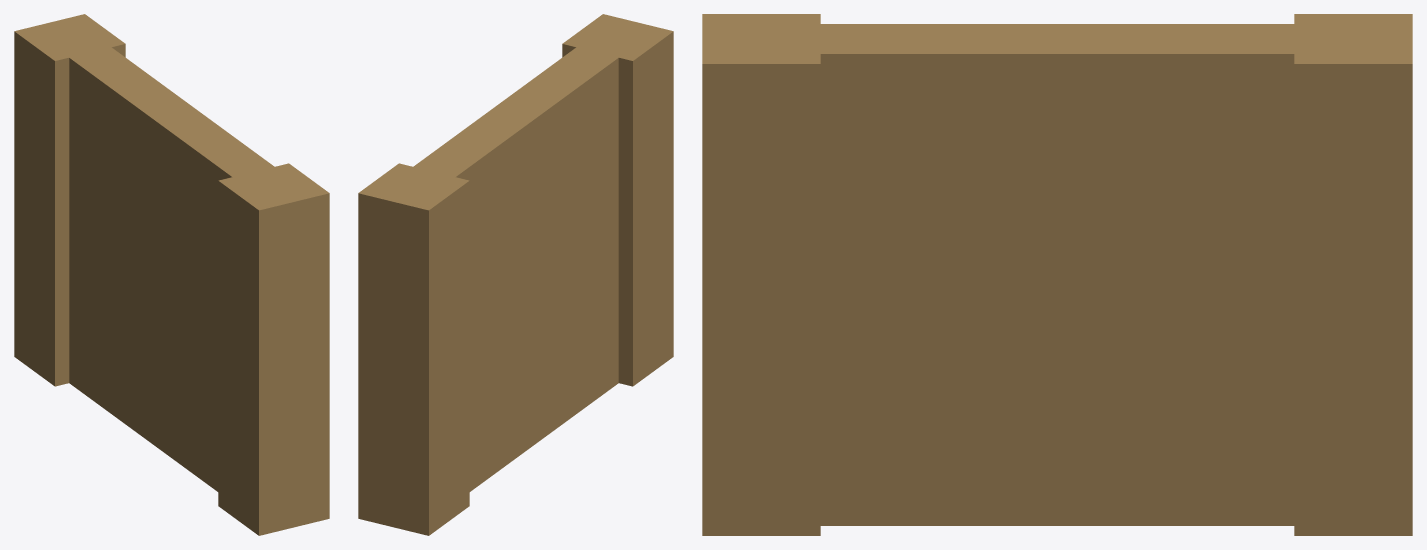
File: wood_door_round_01.glb
The picture shows the model from 3 angles, left to right: view 1: azimuth 30°, elevation 25°; view 2: azimuth 150°, elevation 25°; view 3: azimuth 270°, elevation 25°; orthographic projection. The views are drawn at different scales.
Visible parts, largest first — view 1: Mesh1 Wood_Door_Round Model; view 2: Mesh1 Wood_Door_Round Model; view 3: Mesh1 Wood_Door_Round Model.
Part boxes in pixels (left/top/right/bottom): Mesh1 Wood_Door_Round Model: left=14, top=14, right=329, bottom=535; Mesh1 Wood_Door_Round Model: left=358, top=14, right=673, bottom=535; Mesh1 Wood_Door_Round Model: left=702, top=14, right=1412, bottom=535.
Bounding box in the file's own units: 0.5 × 2.2 × 3.
